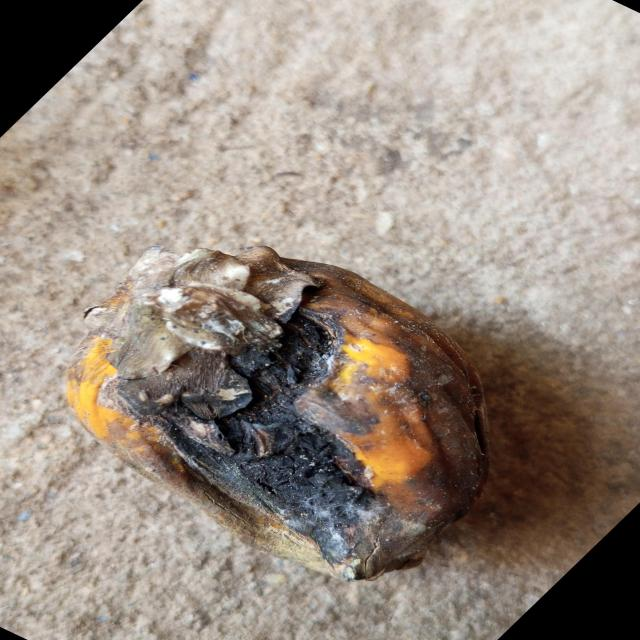damaged: (61, 244, 489, 584)
